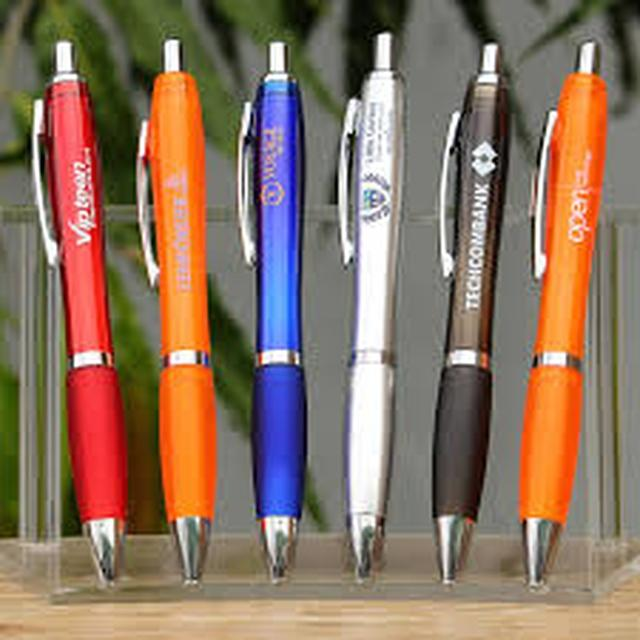pen: (293, 56, 455, 594), (403, 58, 552, 596), (207, 31, 339, 590), (506, 56, 626, 596), (30, 33, 120, 603), (138, 46, 216, 595)
